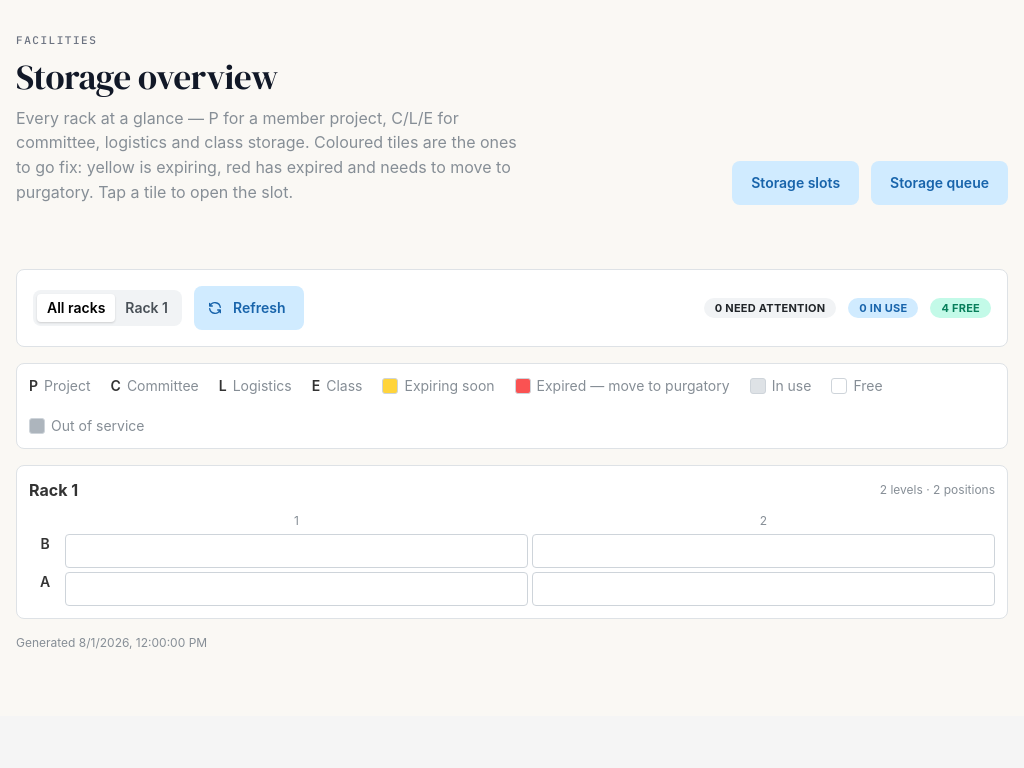
it: StorageOverviewPage — C/L/E staff assignment › will not submit a committee assignment that names no committee
Click the button with test id "cell-1A1". click: x=296, y=589
box: x1=65 y1=572 x2=528 y2=606
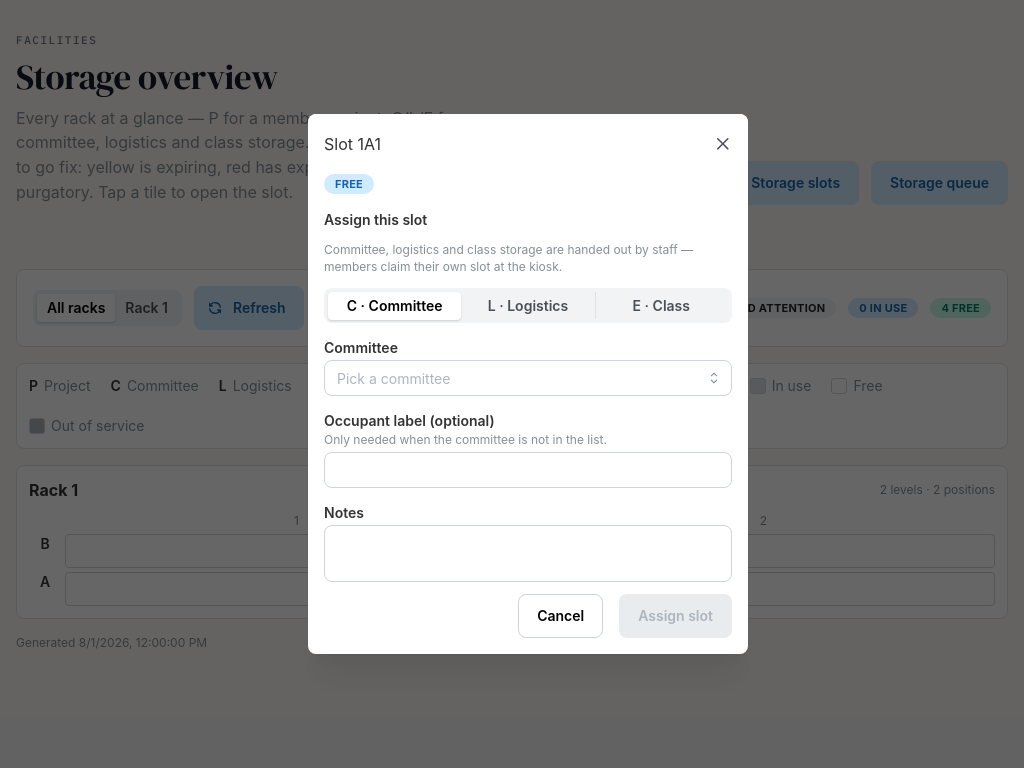
Expected: the element with test id "slot-assign-form" is shown, x1=324 y1=210 x2=732 y2=638
Expected: the button with test id "assign-submit" is disabled, x1=619 y1=594 x2=732 y2=638
Type "Metal shop crew" into the field with test id "assign-label". click: x=528, y=470
box: x1=324 y1=452 x2=732 y2=488
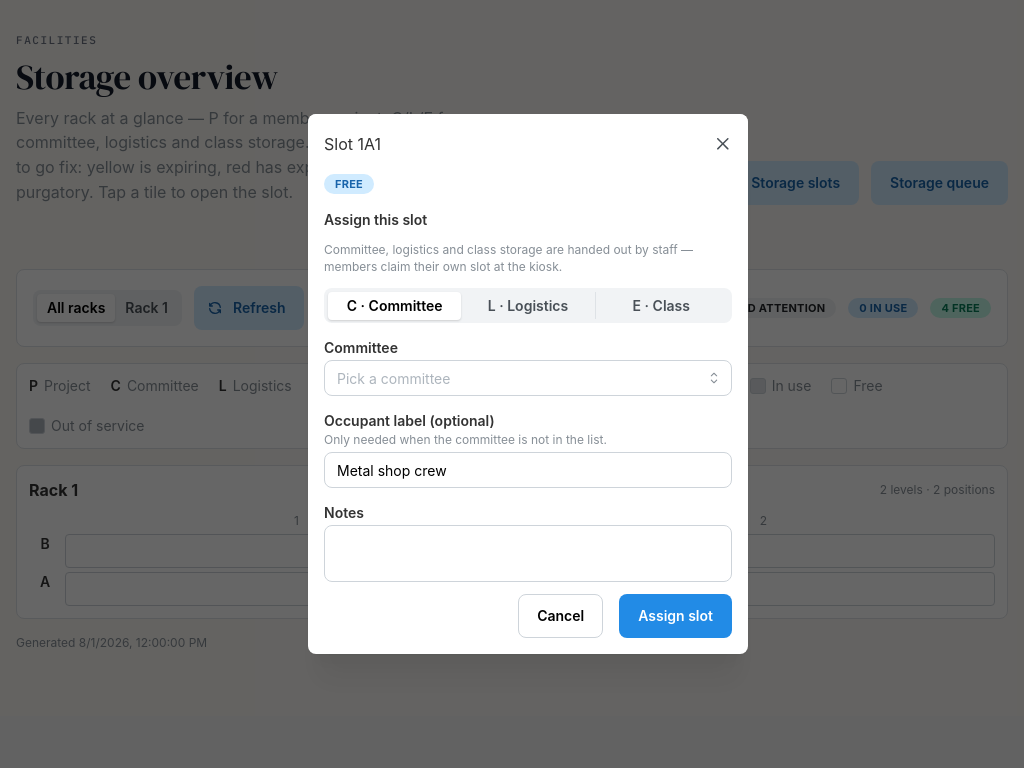
Expected: the button with test id "assign-submit" is enabled, x1=619 y1=594 x2=732 y2=638
